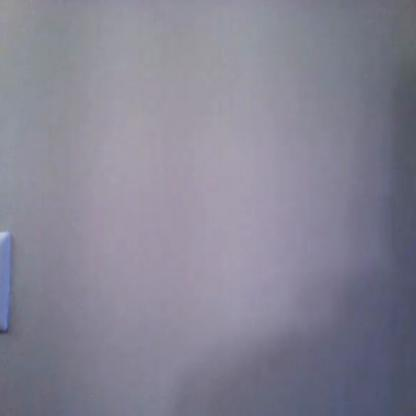OUTLET: (0, 230, 12, 336)
